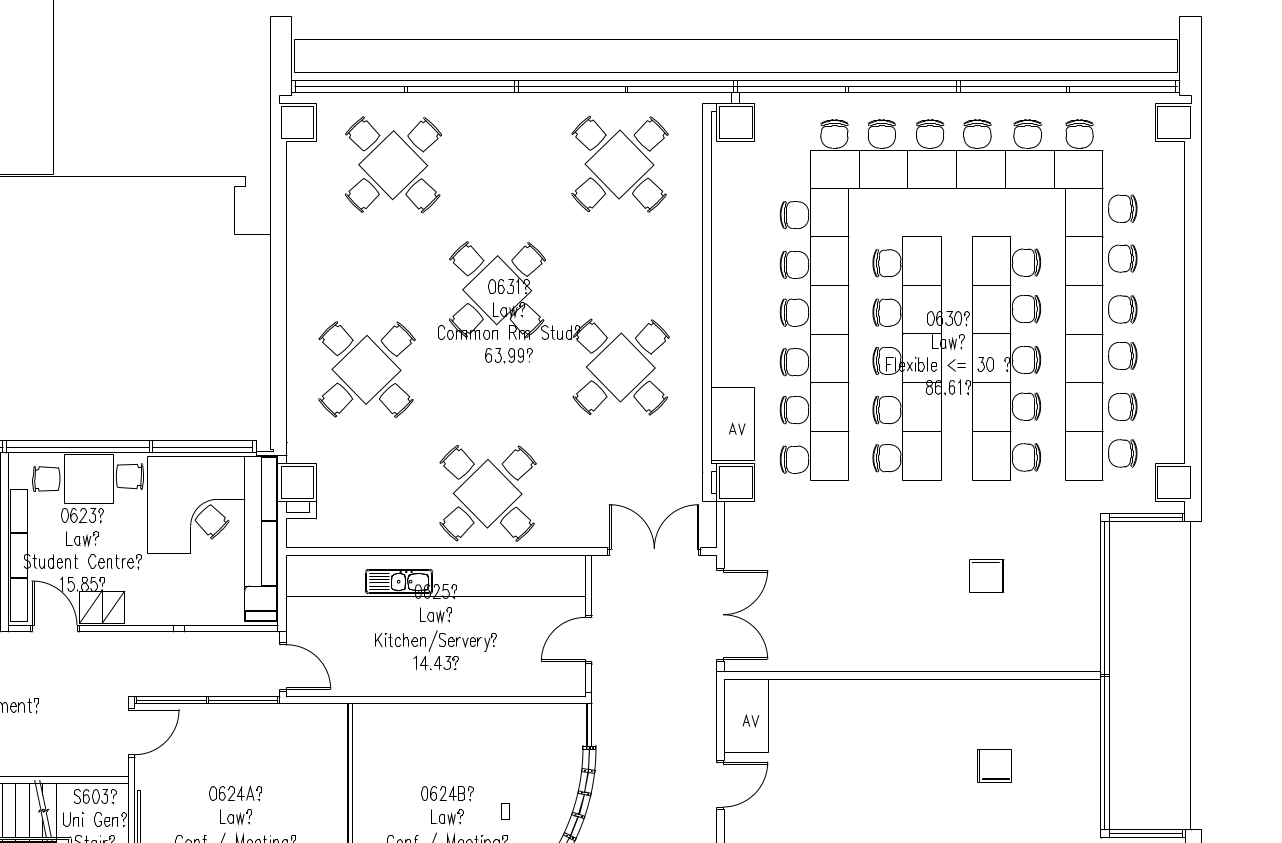door: (602, 494, 658, 559), (646, 494, 702, 559), (29, 575, 79, 638), (128, 707, 184, 763), (279, 637, 335, 693), (530, 610, 586, 666), (714, 566, 772, 617), (712, 612, 770, 663), (714, 757, 772, 808)
